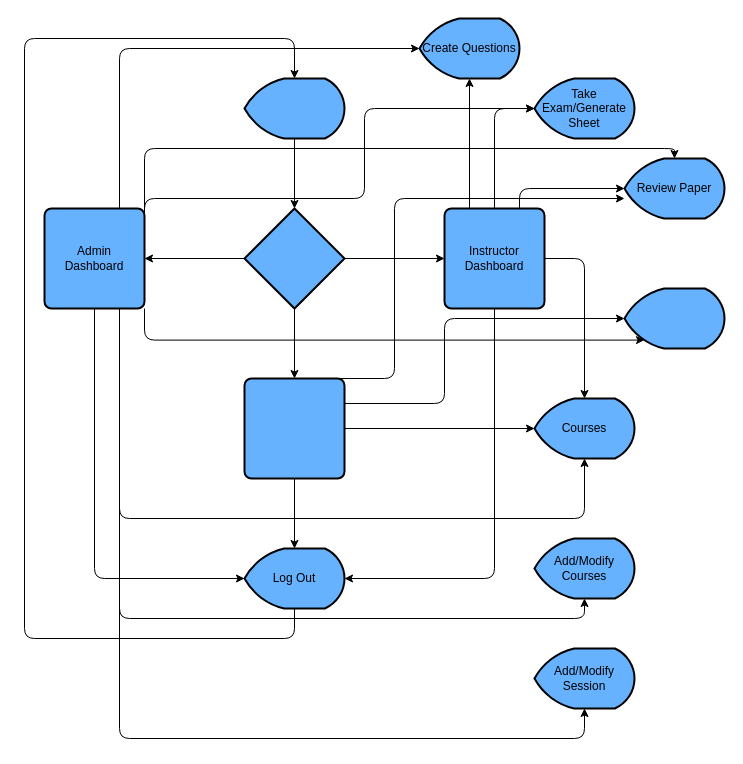
Image size: 743x764. Some labels were removed from this diagram. Here are the shapes that lost their labels. From the top down, the centre of each, then its label:
pixel 294 108: Log In
pixel 294 258: User
pixel 674 318: Give Exam
pixel 294 428: Student Dashboard
